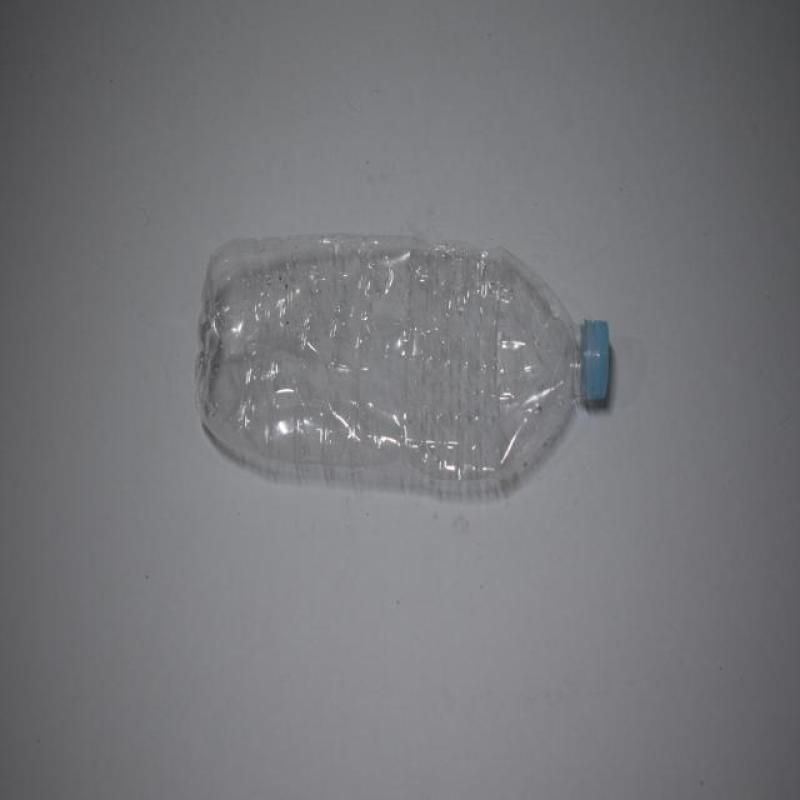botella: (193, 229, 621, 503)
